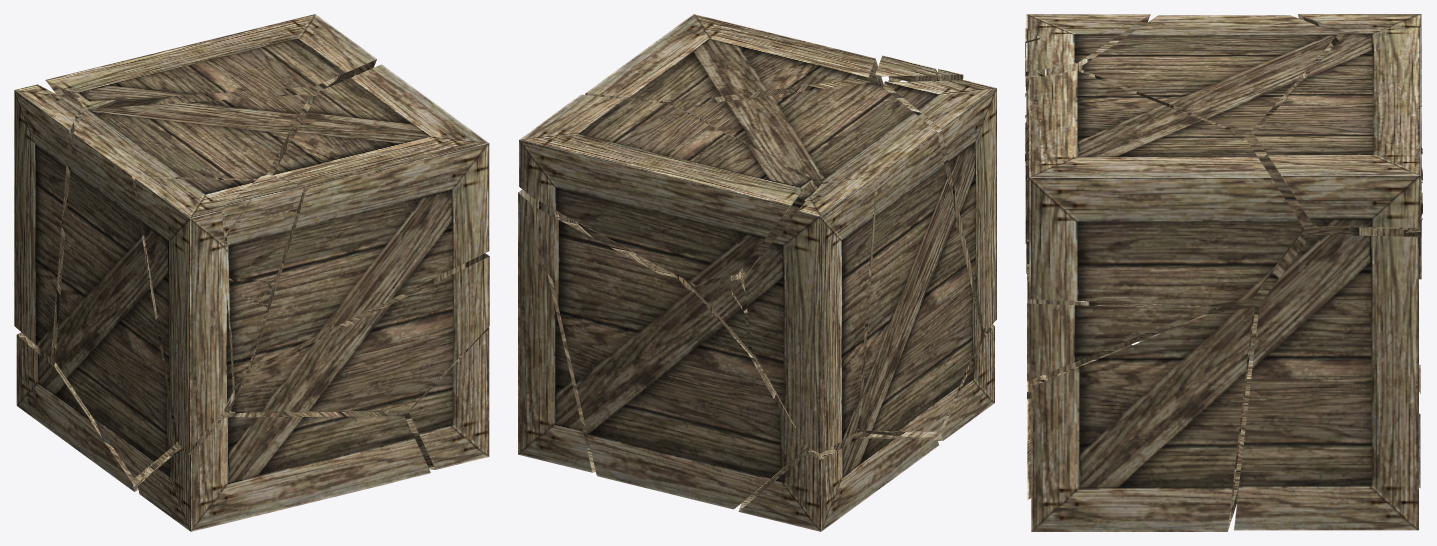
The model's file is boxFractured.fbx.
3 views of the same model, side by side, from view 1: azimuth 30°, elevation 25°; view 2: azimuth 150°, elevation 25°; view 3: azimuth 270°, elevation 25° (orthographic). The views are drawn at different scales.
Parts seen in each view (by area): view 1: Cube_cell.011, Cube_cell.002, Cube_cell.004, Cube_cell, Cube_cell.008, Cube_cell.006, Cube_cell.003, Cube_cell.005, Cube_cell.009, Cube_cell.001_cell, Cube_cell.001_cell.002, Cube_cell.001_cell.001 (+1 smaller); view 2: Cube_cell.013, Cube_cell.002, Cube_cell.006, Cube_cell.003, Cube_cell.011, Cube_cell.012, Cube_cell.008, Cube_cell.009, Cube_cell.004, Cube_cell.010_cell.006, Cube_cell.001_cell.001, Cube_cell (+2 smaller); view 3: Cube_cell.011, Cube_cell.012, Cube_cell.005, Cube_cell.006, Cube_cell.002, Cube_cell, Cube_cell.008, Cube_cell.003, Cube_cell.001_cell.001, Cube_cell.004.
Part boxes in pixels (box(x1,y1,x2,y2)): Cube_cell.011: box(250, 64, 489, 367); Cube_cell.002: box(55, 94, 311, 478); Cube_cell.004: box(137, 416, 430, 531); Cube_cell: box(222, 253, 489, 412); Cube_cell.008: box(135, 178, 255, 449); Cube_cell.006: box(45, 14, 376, 113); Cube_cell.003: box(14, 84, 82, 357); Cube_cell.005: box(217, 327, 489, 469); Cube_cell.009: box(16, 332, 180, 491); Cube_cell.001_cell: box(226, 211, 296, 281); Cube_cell.001_cell.002: box(229, 291, 266, 390); Cube_cell.001_cell.001: box(236, 174, 304, 220); Cube_cell.013: box(536, 208, 805, 509); Cube_cell.002: box(679, 82, 981, 431); Cube_cell.006: box(519, 94, 812, 282); Cube_cell.003: box(744, 176, 875, 453); Cube_cell.011: box(585, 14, 883, 121); Cube_cell.012: box(518, 189, 604, 472); Cube_cell.008: box(884, 80, 996, 331); Cube_cell.009: box(738, 432, 939, 531); Cube_cell.004: box(857, 320, 994, 440); Cube_cell.010_cell.006: box(711, 276, 760, 365); Cube_cell.001_cell.001: box(875, 55, 941, 92); Cube_cell: box(752, 197, 805, 257); Cube_cell.011: box(1029, 70, 1304, 305); Cube_cell.012: box(1234, 235, 1418, 530); Cube_cell.005: box(1031, 307, 1254, 531); Cube_cell.006: box(1254, 27, 1420, 229); Cube_cell.002: box(1080, 15, 1342, 342); Cube_cell: box(1027, 239, 1222, 399); Cube_cell.008: box(1026, 14, 1150, 273); Cube_cell.003: box(1298, 14, 1421, 279); Cube_cell.001_cell.001: box(1026, 39, 1074, 90); Cube_cell.004: box(1027, 281, 1132, 499).
Bounding box in the file's own units: 98.66 × 99.58 × 99.9.
